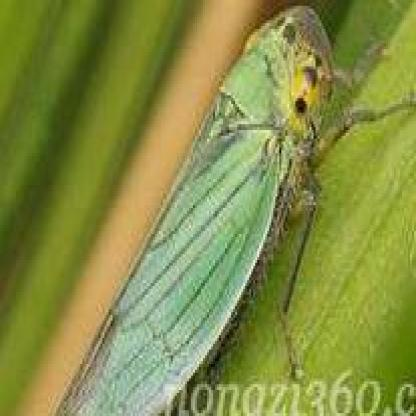Green-Leafhopper: (52, 1, 416, 416)
